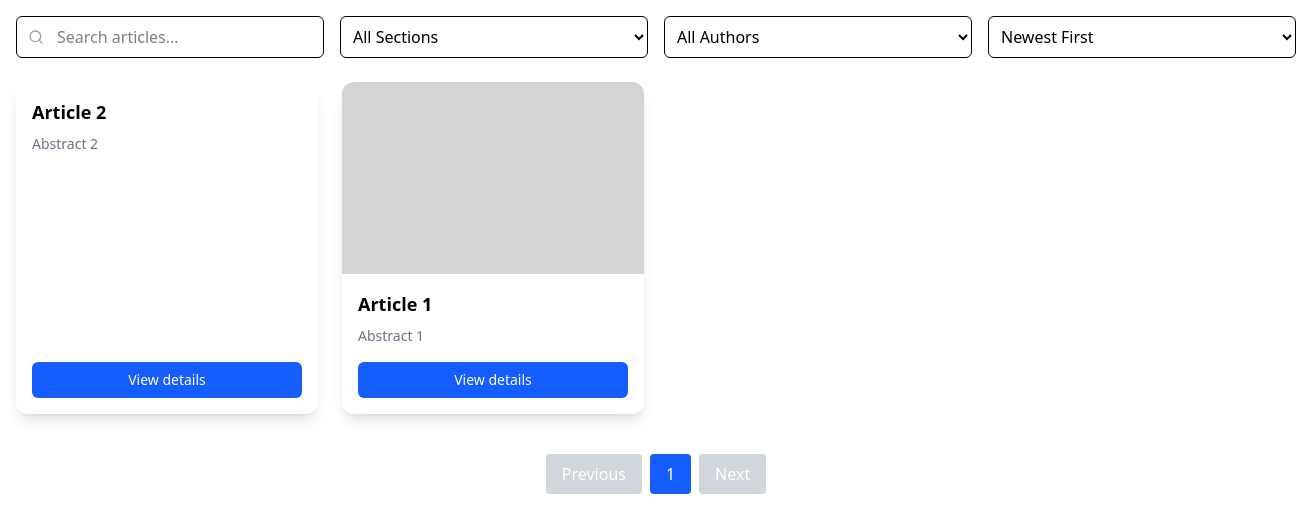
it: HomePage › filters articles by section
Select "News" in the dropdown named "all sections" at x=494, y=37, box left=340, top=16, right=648, bottom=58
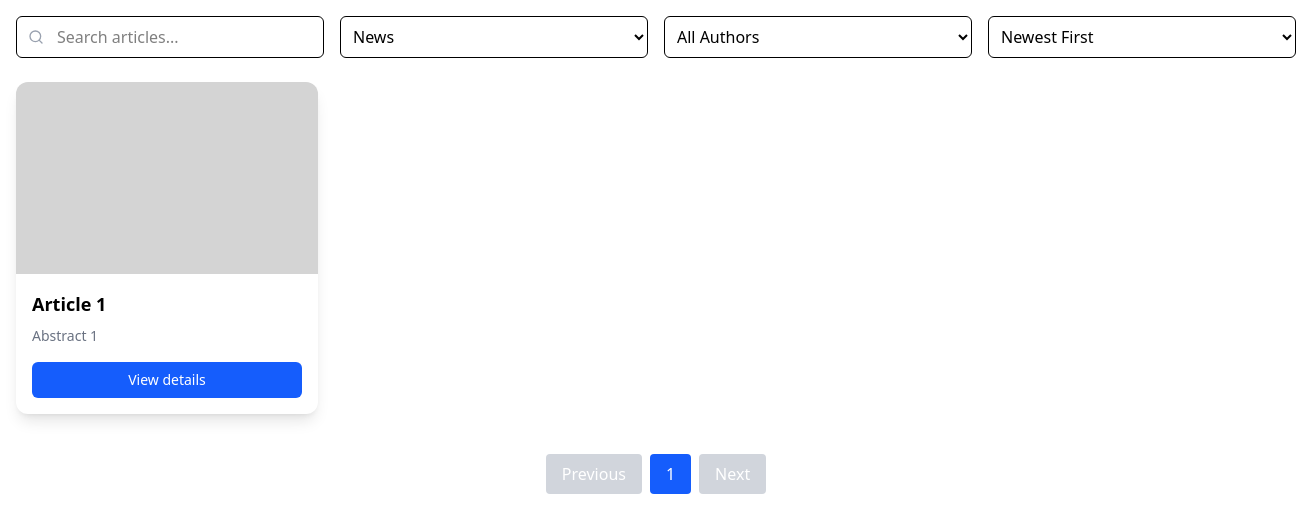
Expected: the heading "Article 1" is shown, left=32, top=292, right=106, bottom=316
Expected: the heading "Article 2" is gone
